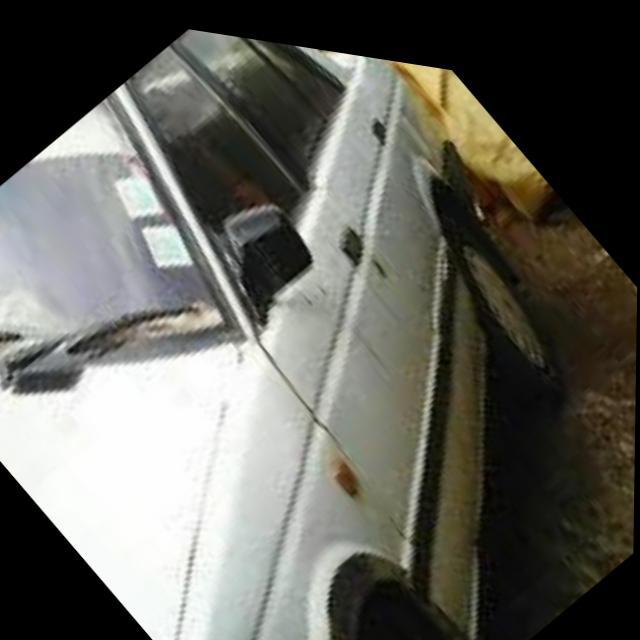scratch: (292, 260, 420, 374)
